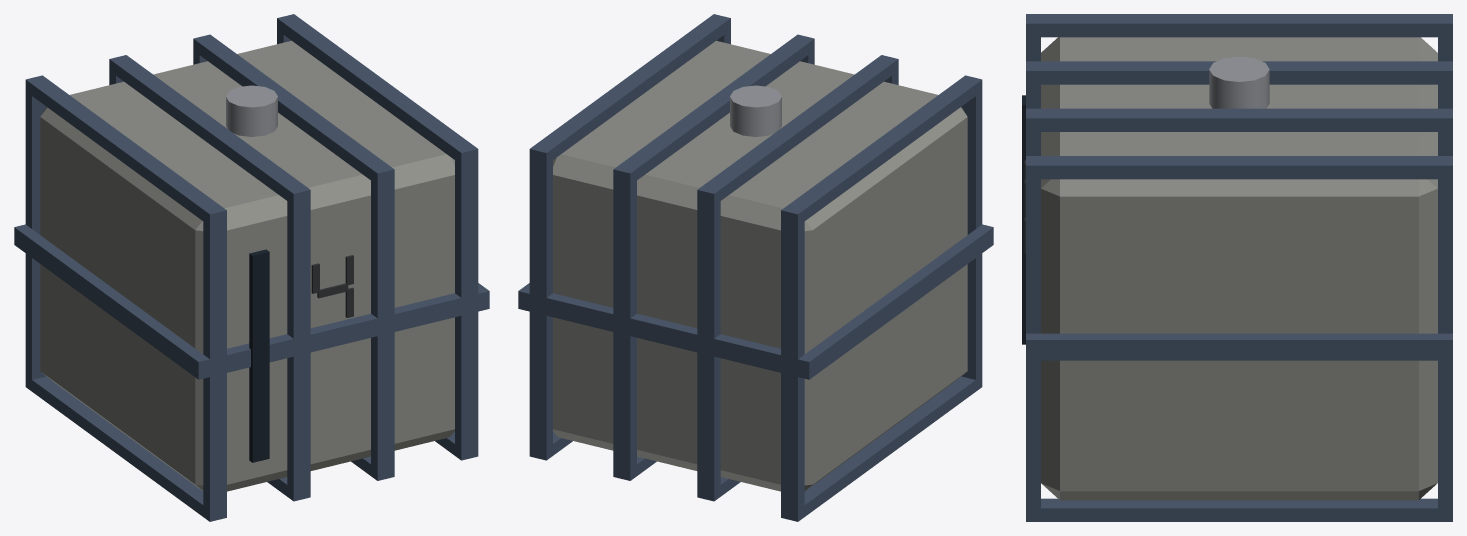
Rendered from ko300_fluid.obj.
The picture shows the model from 3 angles, left to right: view 1: azimuth 30°, elevation 25°; view 2: azimuth 150°, elevation 25°; view 3: azimuth 270°, elevation 25°; orthographic projection. The views are drawn at different scales.
Parts seen in each view (by area): view 1: ko300_fluid; view 2: ko300_fluid; view 3: ko300_fluid.
Part boxes in pixels (bbox=[...]): ko300_fluid: bbox=[14, 14, 489, 521]; ko300_fluid: bbox=[518, 14, 993, 521]; ko300_fluid: bbox=[1022, 14, 1452, 521].
Bounding box in the file's own units: 1.03 × 1.1 × 1.14.
